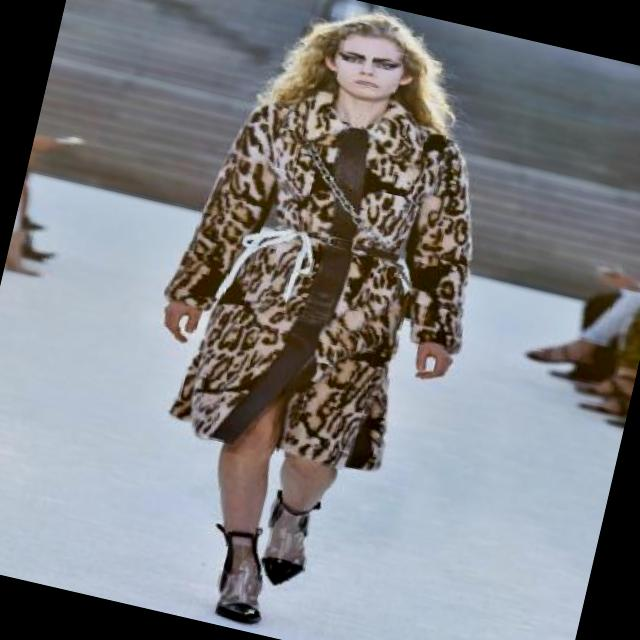Person: (66, 0, 590, 640)
